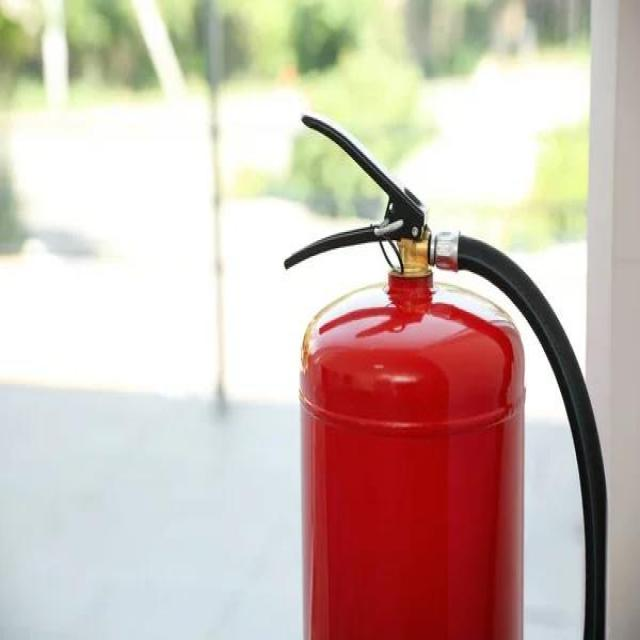fire_extinguisher: (279, 106, 610, 638)
